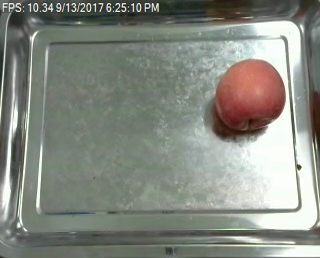Apple: (209, 58, 290, 133)
